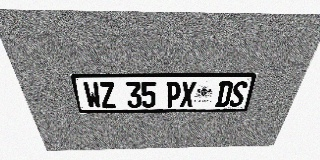3: (126, 82, 142, 108)
5: (141, 82, 156, 108)
D: (215, 81, 234, 107)
P: (166, 82, 181, 107)
S: (228, 81, 248, 107)
W: (82, 82, 102, 108)
X: (180, 81, 196, 107)
Z: (98, 82, 117, 108)
